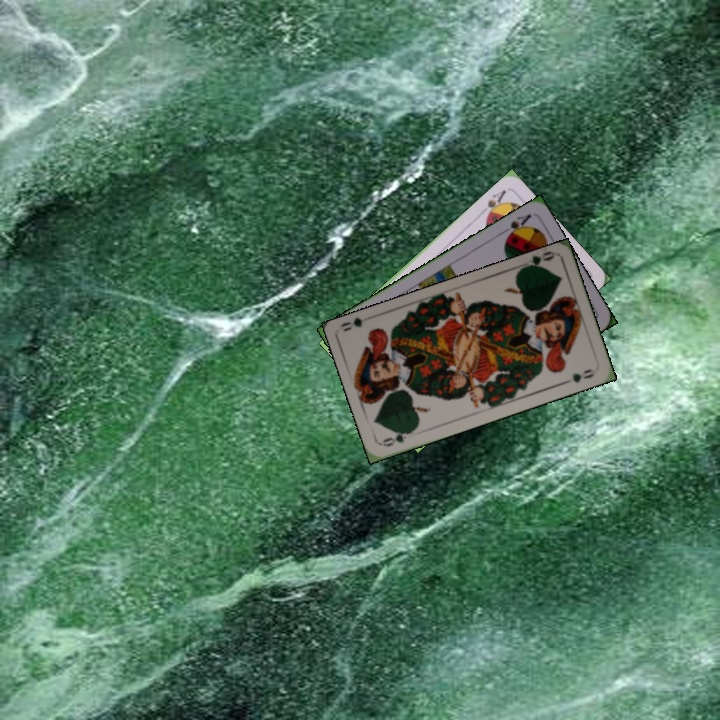GO: (518, 248, 557, 271), (378, 426, 417, 449)
SA: (476, 185, 509, 222), (497, 210, 534, 242)
